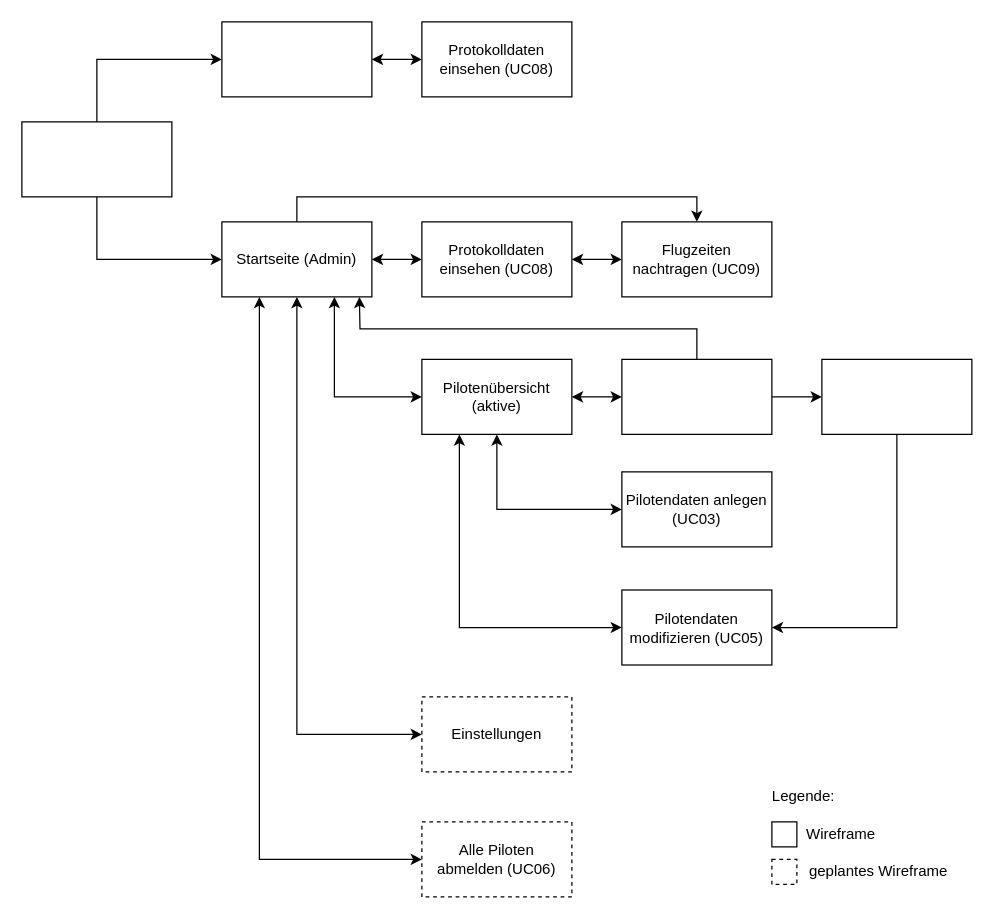
This 994x919 diagram has some shape labels left out. Here are the shapes that lost their labels. From the top down, the box of each, then its label:
(221, 21, 372, 97): Startseite (Pilot)
(21, 121, 172, 197): Login
(621, 358, 772, 434): Pilotenübersicht (deaktive) (UC11)
(821, 358, 972, 434): Pilot reaktivieren (UC11)
